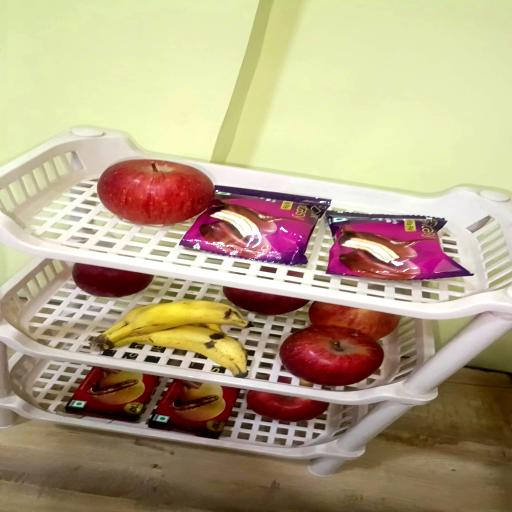Apple: (97, 159, 213, 225), (279, 325, 384, 386), (308, 301, 401, 341), (72, 263, 153, 297), (247, 390, 329, 422), (223, 286, 308, 315)
Choco Fills: (149, 379, 239, 437), (65, 367, 158, 422)
Choco Pie: (180, 187, 329, 265), (327, 212, 472, 281)
